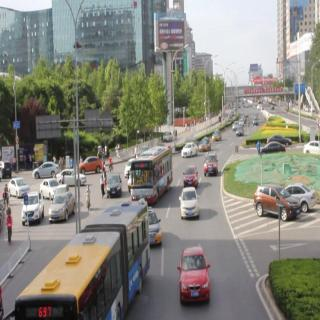Car: (3, 210, 157, 320), (124, 142, 176, 206), (178, 242, 216, 312), (256, 186, 297, 228), (281, 175, 317, 216), (136, 204, 165, 248), (178, 183, 206, 225), (48, 191, 82, 221), (257, 134, 289, 163), (31, 156, 64, 182), (265, 126, 296, 152), (180, 154, 201, 192), (56, 169, 91, 191), (26, 189, 51, 219), (204, 148, 223, 184), (77, 155, 105, 176), (299, 132, 320, 159), (40, 175, 64, 197), (10, 174, 30, 199), (105, 174, 124, 194), (180, 139, 198, 160), (197, 134, 212, 156), (234, 124, 250, 140), (213, 128, 222, 142)
